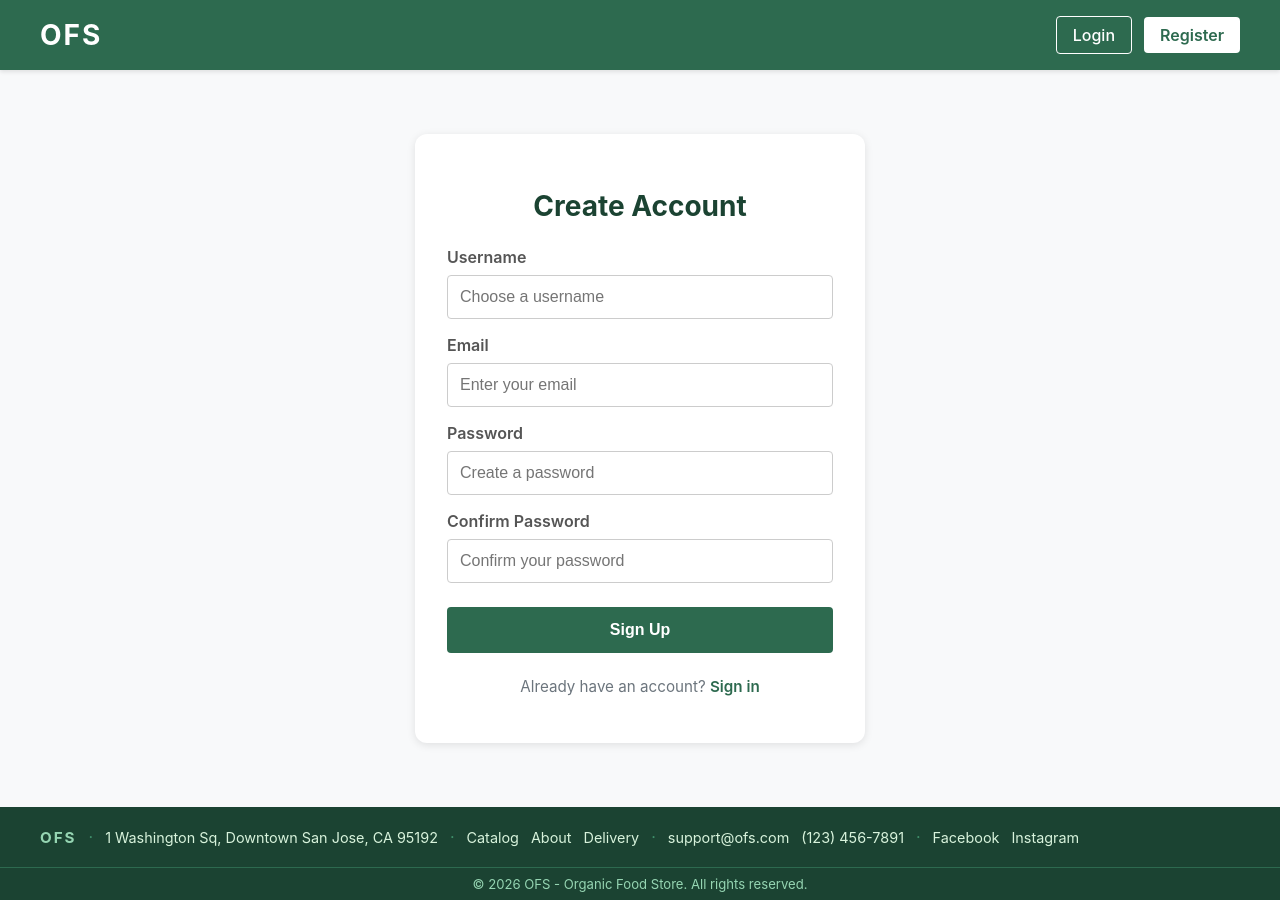
Test: shows a validation error when register passwords do not match
Step 1. Type "new_customer" into the field labelled "Username" → (640, 297), box [447, 275, 833, 319]
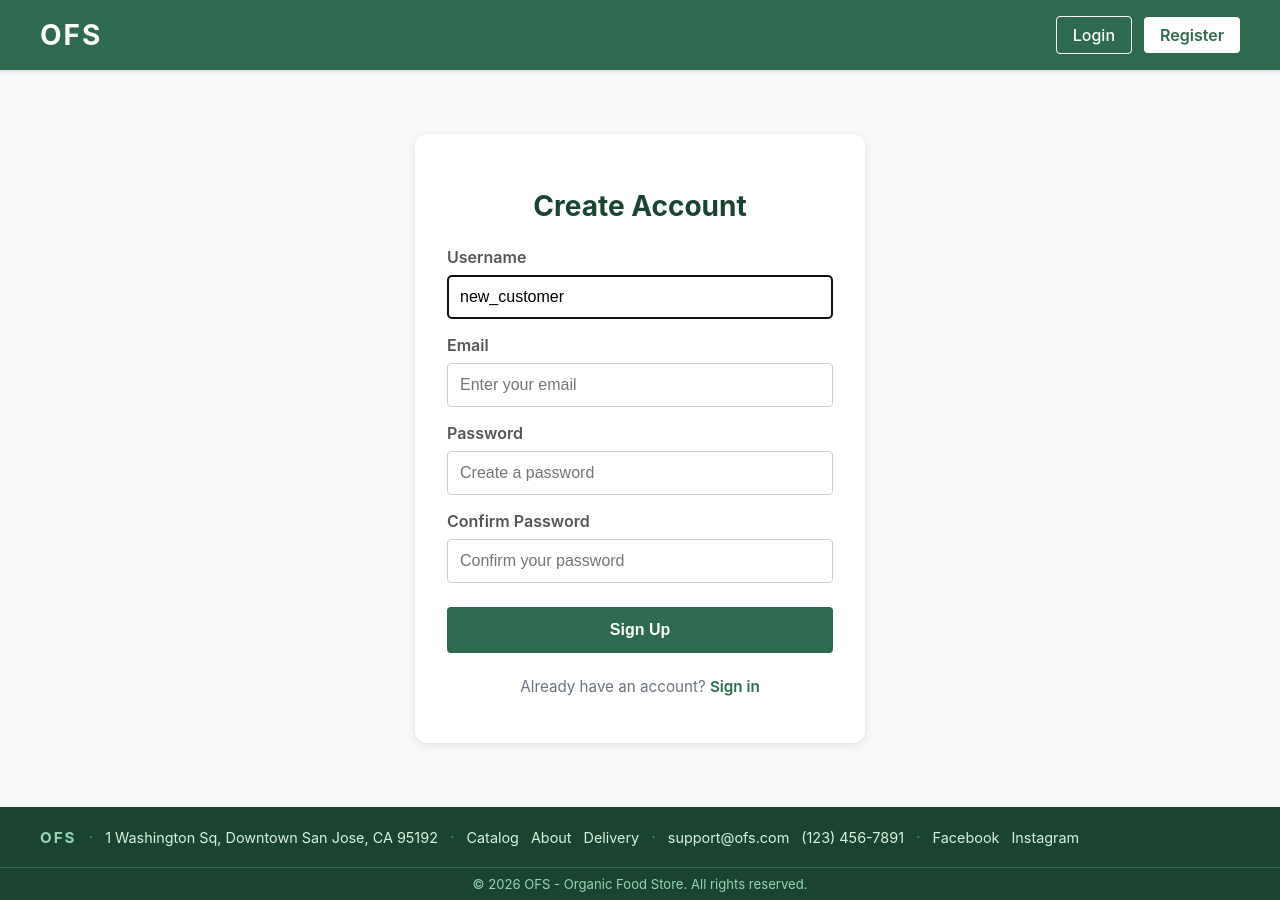
Step 2. Type "customer@example.com" into the field labelled "Email" → (640, 385), box [447, 363, 833, 407]
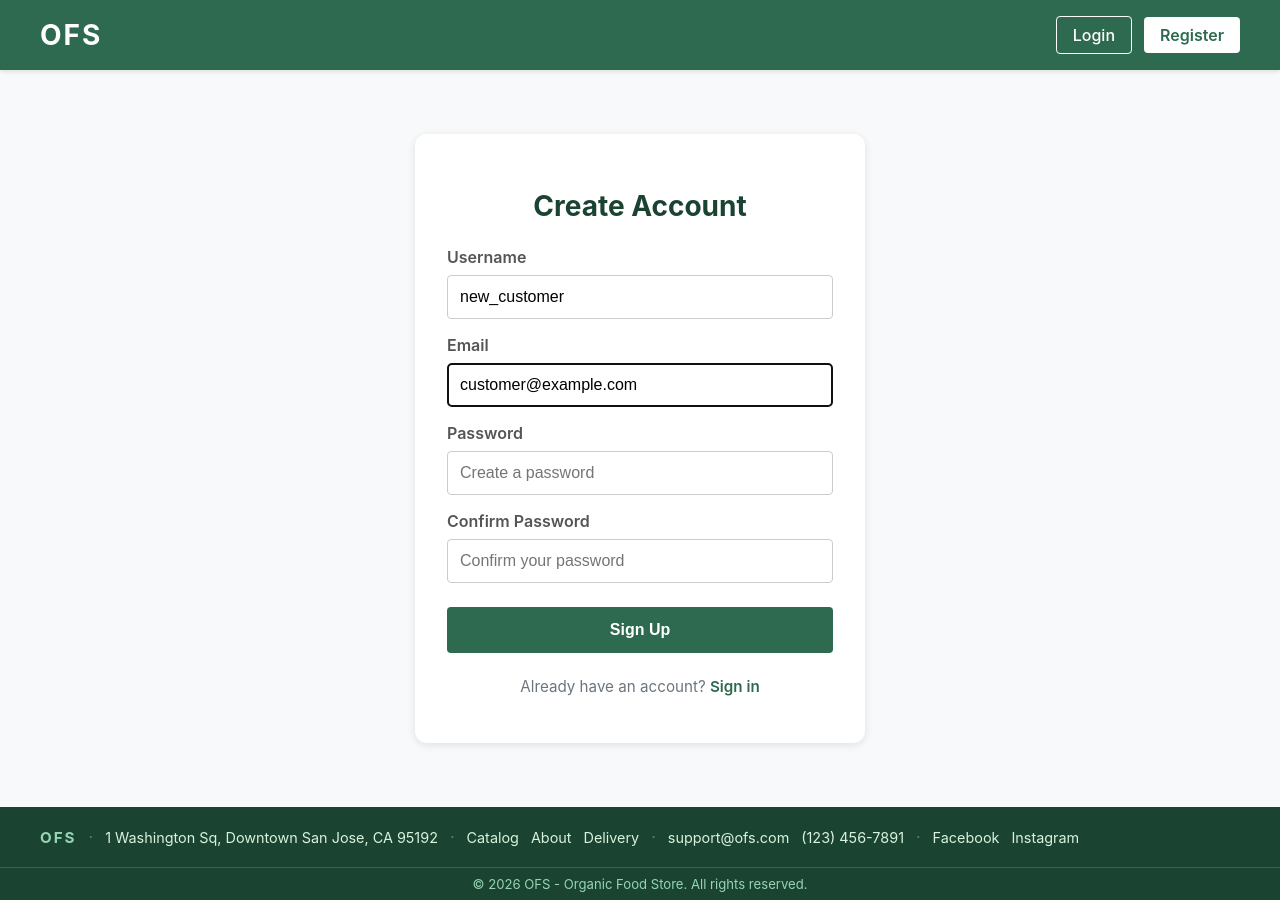
Step 3. Type "Secret123!" into the password field labelled "Password" → (640, 473), box [447, 451, 833, 495]
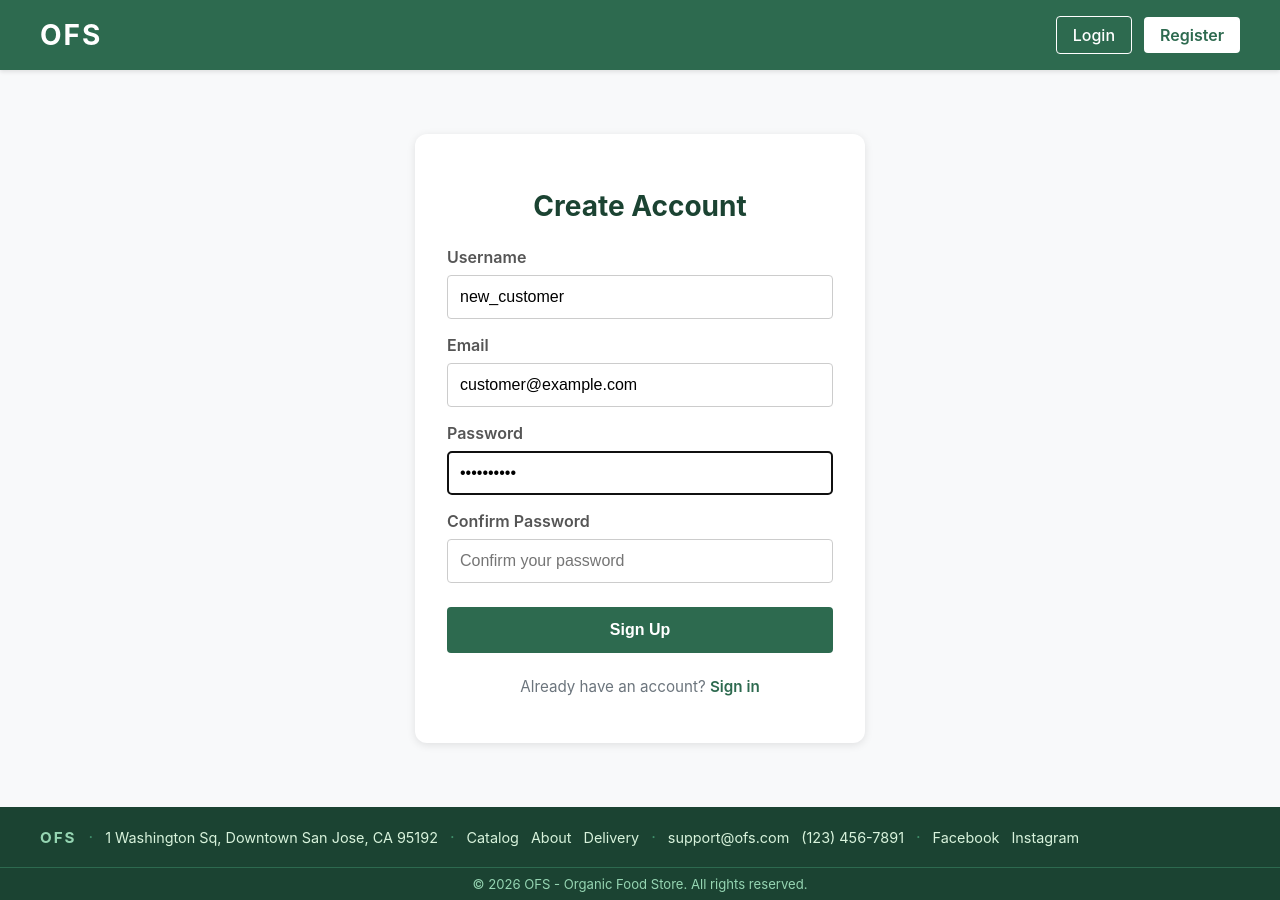
Step 4. Type "Secret124!" into the password field labelled "Confirm Password" → (640, 561), box [447, 539, 833, 583]
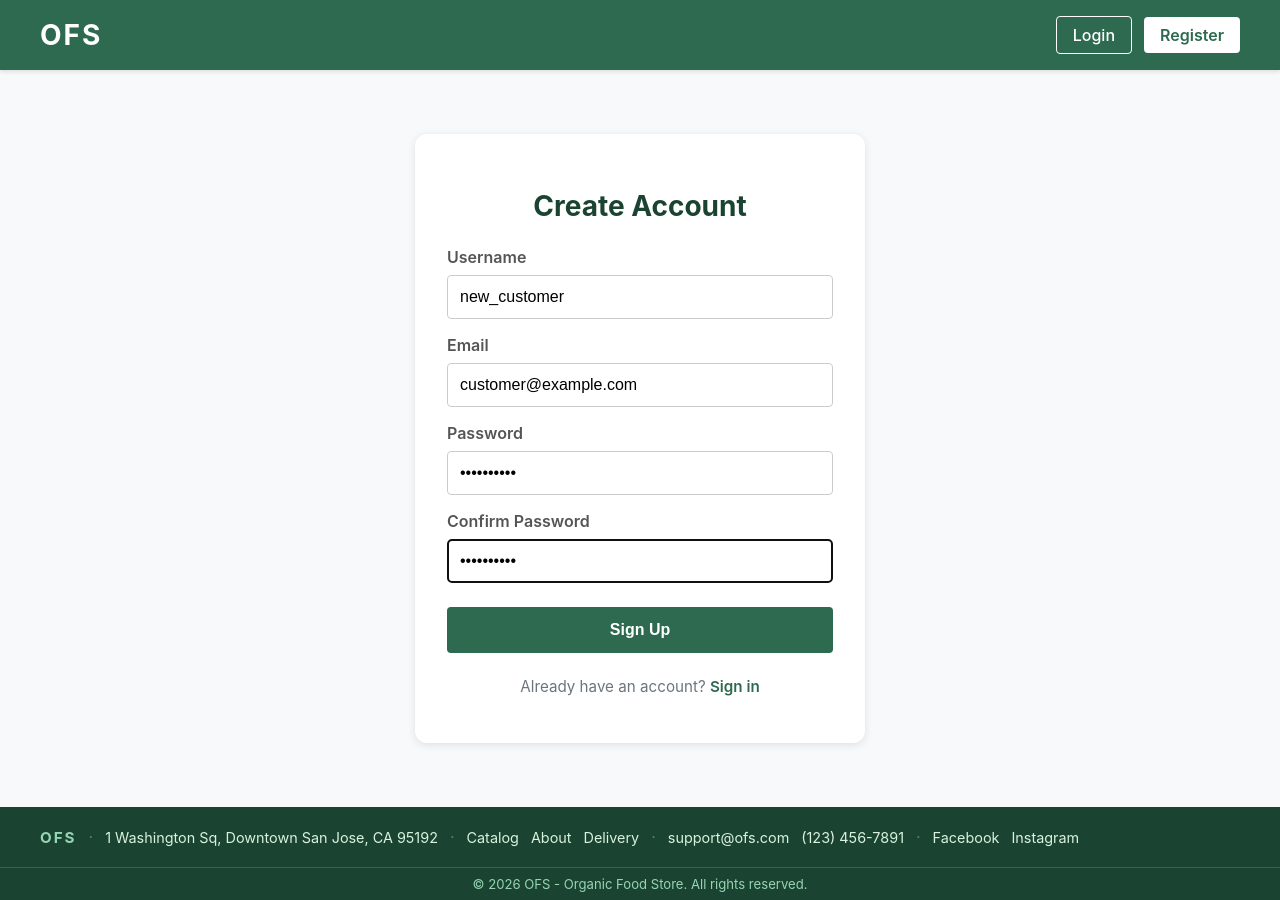
Step 5. Click the button "Sign Up" → (640, 630), box [447, 607, 833, 653]
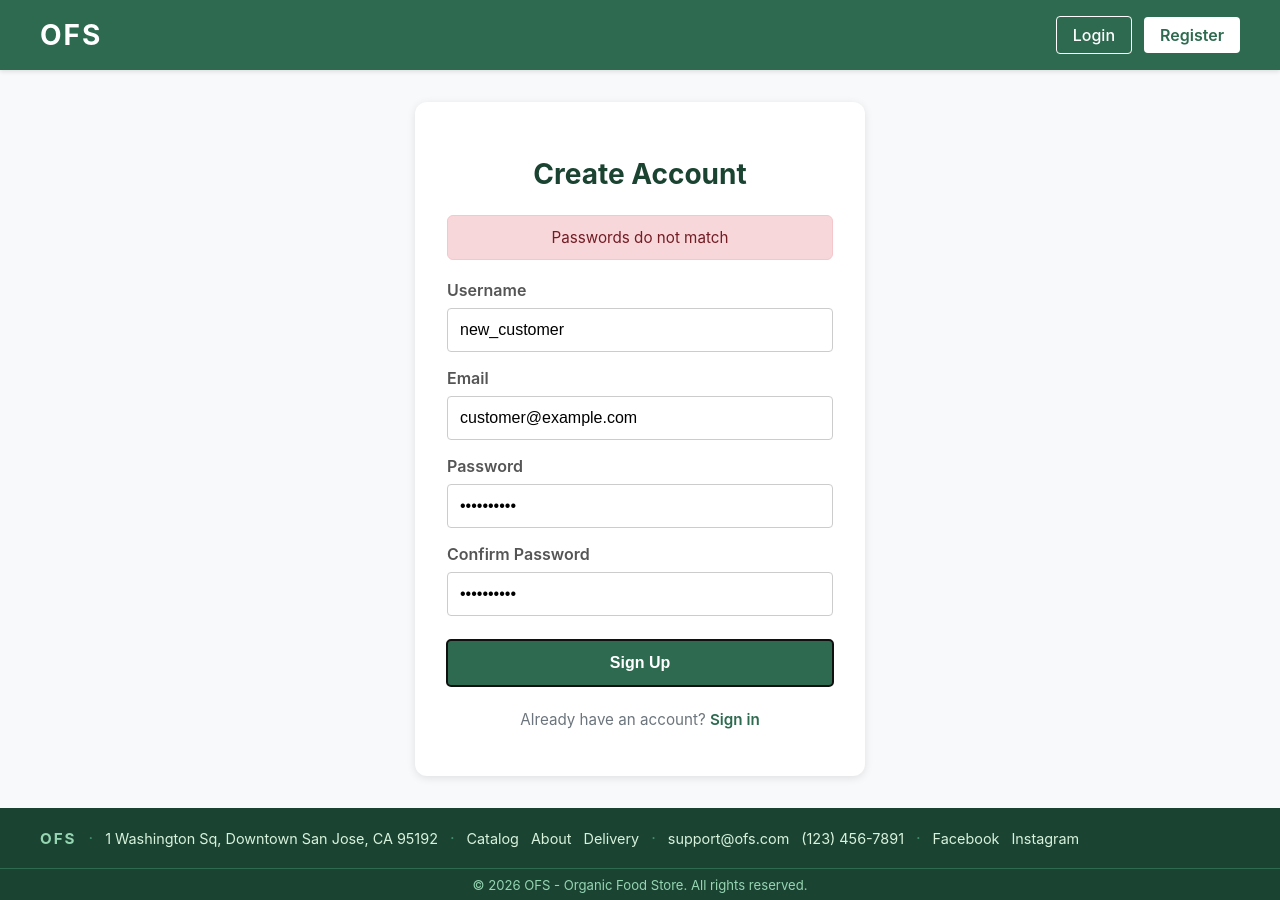
Expected: the text "Passwords do not match" is shown, [447, 215, 833, 260]
